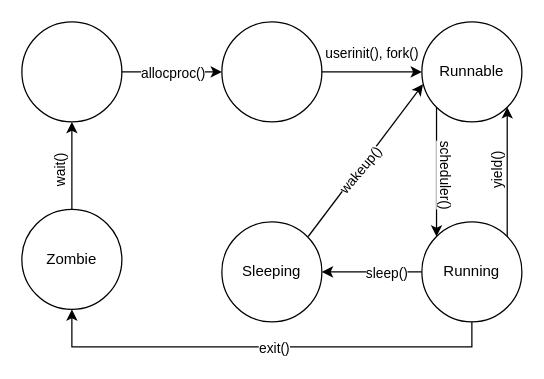
Some shapes in this 544 by 379 pixel diagram are drawn without their labels. The box of each missing label's shape, as (x1, y1, x2, y2) in pixels:
Unused: (21, 21, 122, 122)
Used: (221, 21, 322, 122)
